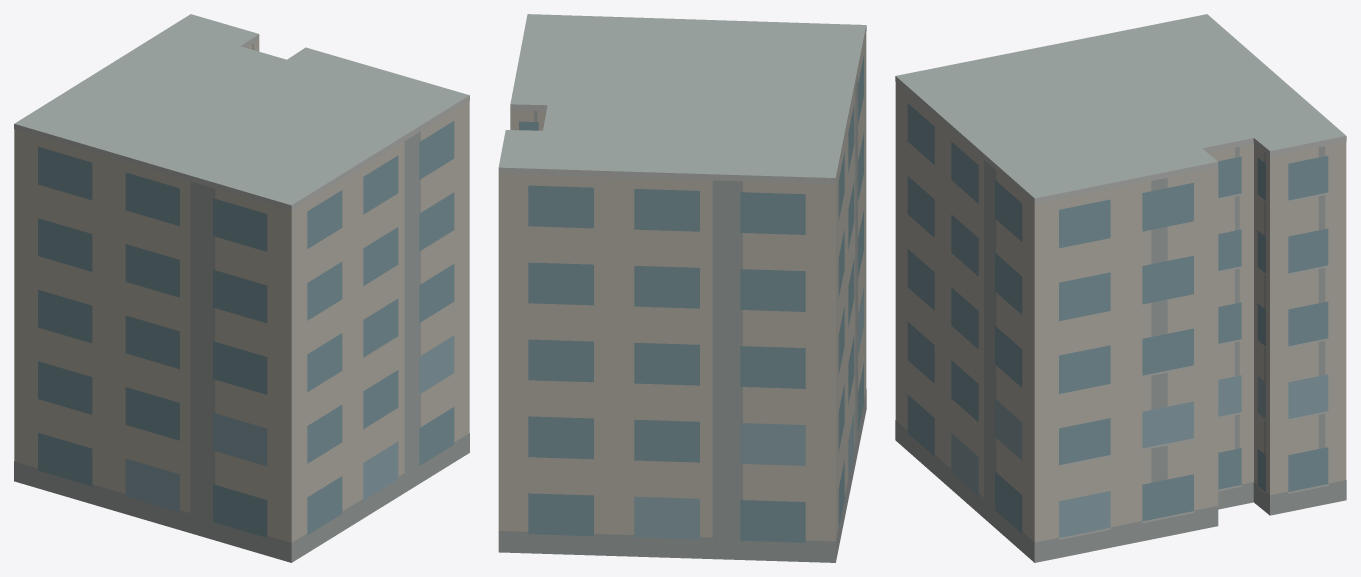
The model's file is survey-upis-32630342.glb.
3 renders of one model, left to right at view 1: azimuth 30°, elevation 25°; view 2: azimuth 150°, elevation 25°; view 3: azimuth 270°, elevation 25°, orthographic. The views are drawn at different scales.
Parts seen in each view (by area): view 1: survey-upis-32630342.tmp; view 2: survey-upis-32630342.tmp; view 3: survey-upis-32630342.tmp.
Boxes of the visible parts, box(x1,y1,x2,y2) form: survey-upis-32630342.tmp: box(14, 14, 469, 562); survey-upis-32630342.tmp: box(498, 14, 866, 562); survey-upis-32630342.tmp: box(895, 14, 1346, 562).
Bounding box in the file's own units: 16.57 × 15.25 × 17.11.
